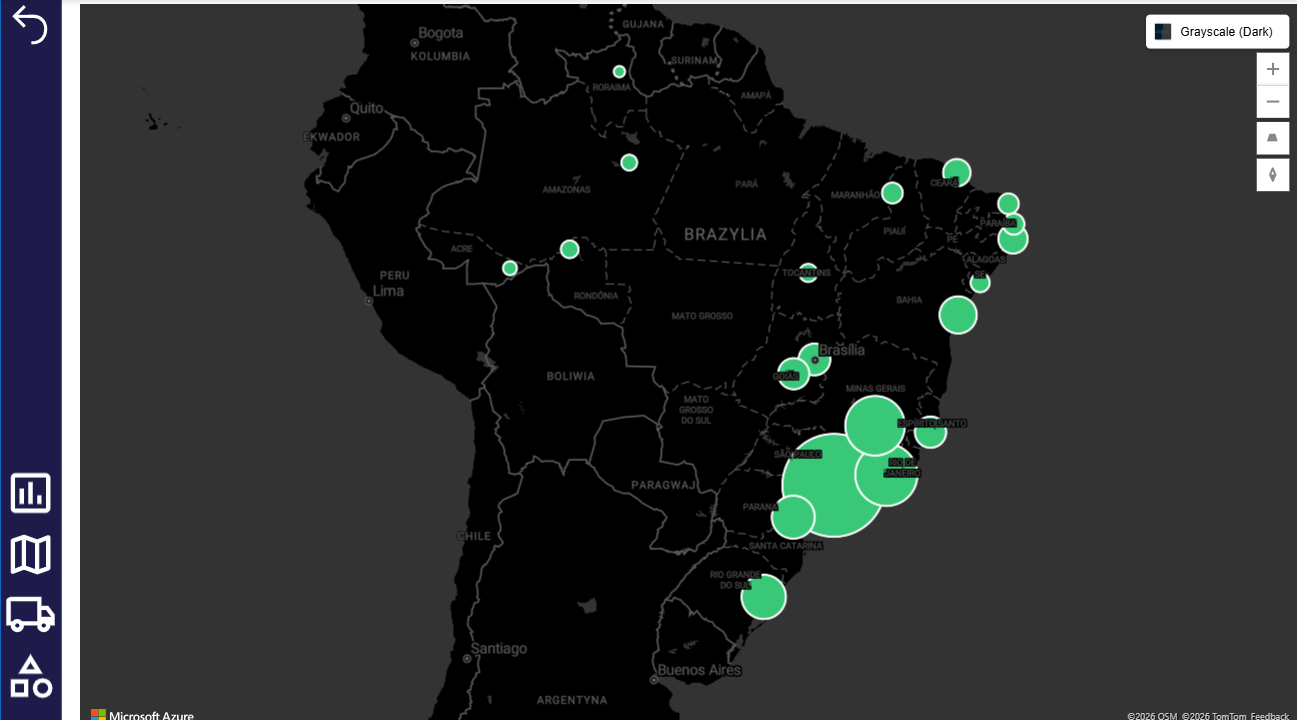

The page's visual inventory and layout, read from the dashboard file:
{"tool":"powerbi","page":{"name":"MAP","canvas":[1280,720],"ordinal":1},"visuals":[{"type":"shape","box":[0,0,60.8,721],"z":0},{"type":"azureMap","fields":{"Category":["Customer.Location Hierarchy.State","Customer.Location Hierarchy.City"],"Size":["Meausures.Total Orders"]},"box":[73.3,0,1206.7,720],"z":1}]}

Visuals, with their boxes on the page's 1280x720 design canvas (x1, y1, x2, y2). These are canvas units, not pixel positions in the 1297x720 screenshot, which may show the page scaled, cropped or inside an application window:
shape: (0,0,61,721)
azureMap - Customer.Location Hierarchy.State x Customer.Location Hierarchy.City: (73,0,1280,720)
